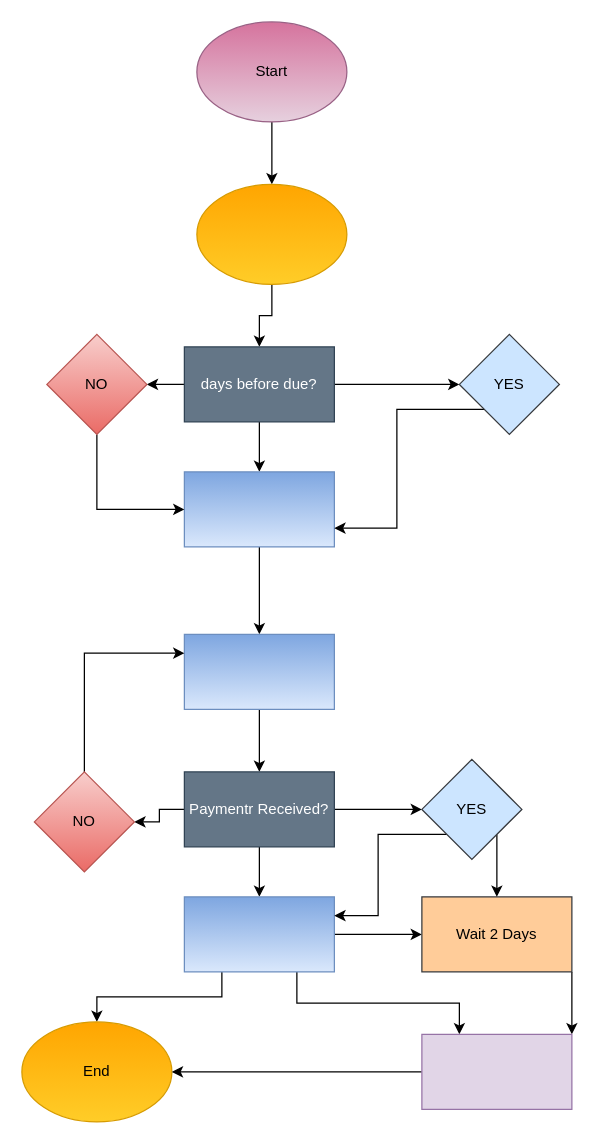
The diagram is 604 pixels wide and 1144 high, and some of its shapes have lost their labels. The centre of each missing label's shape, as x and y in pixels:
"Auto-update ledger" goes at (x=258, y=934).
"Customer receievs reminder" goes at (x=258, y=671).
"Escalation alert" goes at (x=496, y=1071).
"Inovice Created" goes at (x=271, y=233).
"Trigger reminder email" goes at (x=258, y=509).
